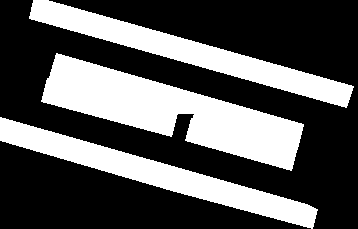parkingspot: (0, 117, 317, 228), (29, 0, 353, 107), (49, 53, 303, 149), (41, 78, 177, 136), (185, 118, 297, 170)
